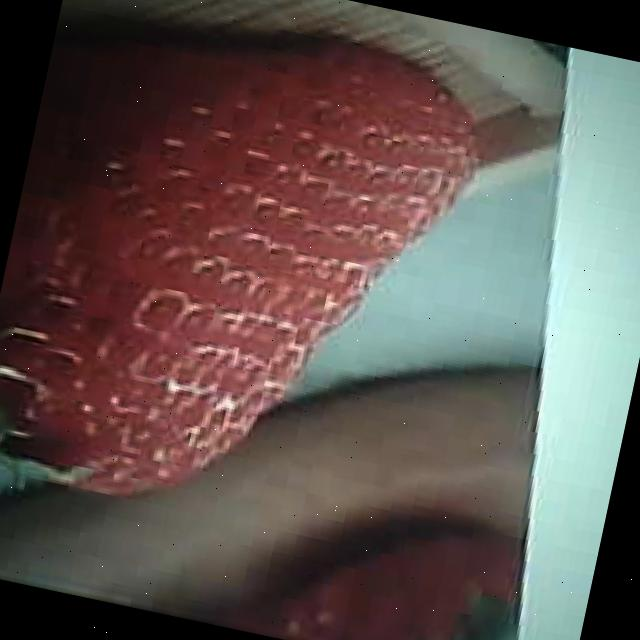strawberry: (0, 2, 492, 551)
